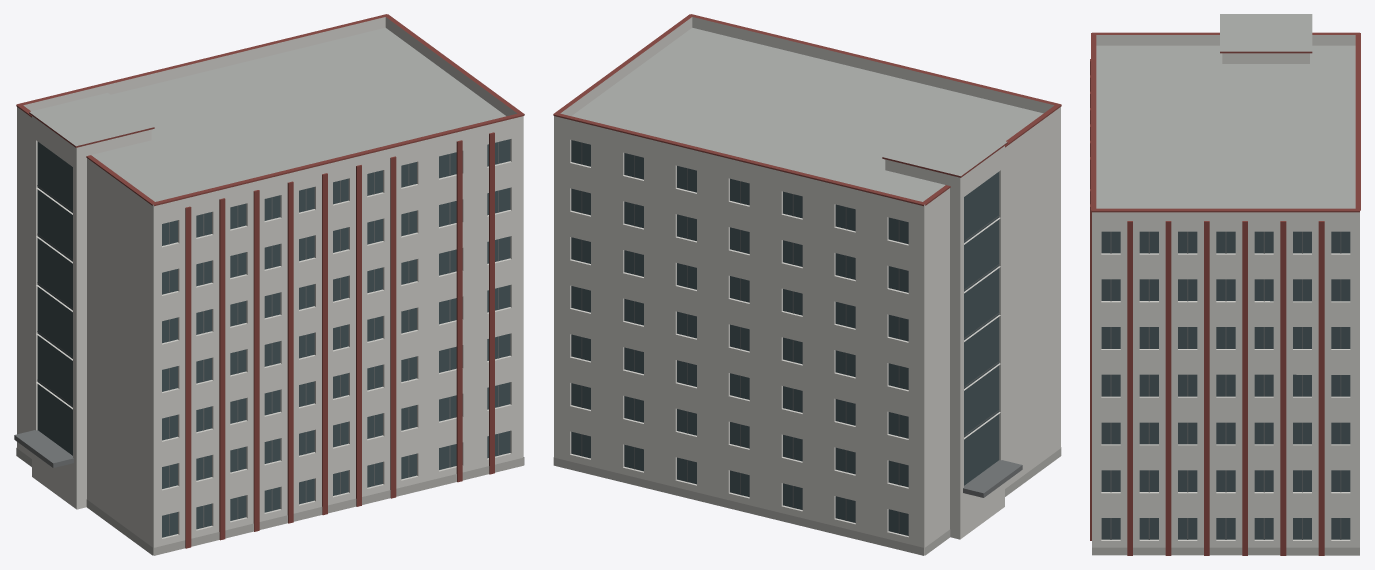
3 renders of one model, left to right at view 1: azimuth 30°, elevation 25°; view 2: azimuth 150°, elevation 25°; view 3: azimuth 270°, elevation 25°, orthographic.
Visible parts, largest first — view 1: music2__wall, music2__roof, music2__glass, music2__trim, music2__parapet, music2__base, music2__frame, music2__canopy; view 2: music2__wall, music2__roof, music2__glass, music2__parapet, music2__trim, music2__base, music2__frame, music2__canopy; view 3: music2__wall, music2__roof, music2__glass, music2__trim, music2__parapet, music2__base, music2__frame.
Part boxes in pixels (x1,y1,x2,y2): music2__wall: (17, 116, 523, 555); music2__roof: (29, 27, 505, 201); music2__glass: (37, 139, 510, 537); music2__trim: (16, 14, 524, 548); music2__parapet: (17, 17, 523, 215); music2__base: (16, 447, 524, 555); music2__frame: (37, 142, 498, 535); music2__canopy: (14, 430, 73, 467); music2__wall: (554, 115, 1060, 555); music2__roof: (571, 27, 1043, 201); music2__glass: (571, 140, 999, 535); music2__parapet: (554, 17, 1060, 215); music2__trim: (553, 14, 1061, 206); music2__base: (553, 447, 1061, 555); music2__frame: (581, 142, 999, 533); music2__canopy: (963, 460, 1022, 497); music2__wall: (1092, 53, 1359, 547); music2__roof: (1096, 14, 1355, 208); music2__glass: (1101, 231, 1350, 539); music2__trim: (1090, 32, 1360, 555); music2__parapet: (1092, 35, 1359, 220); music2__base: (1092, 547, 1359, 555); music2__frame: (1110, 231, 1341, 539).
Size of the model in its own units: 31.21 by 27 by 18.51.
